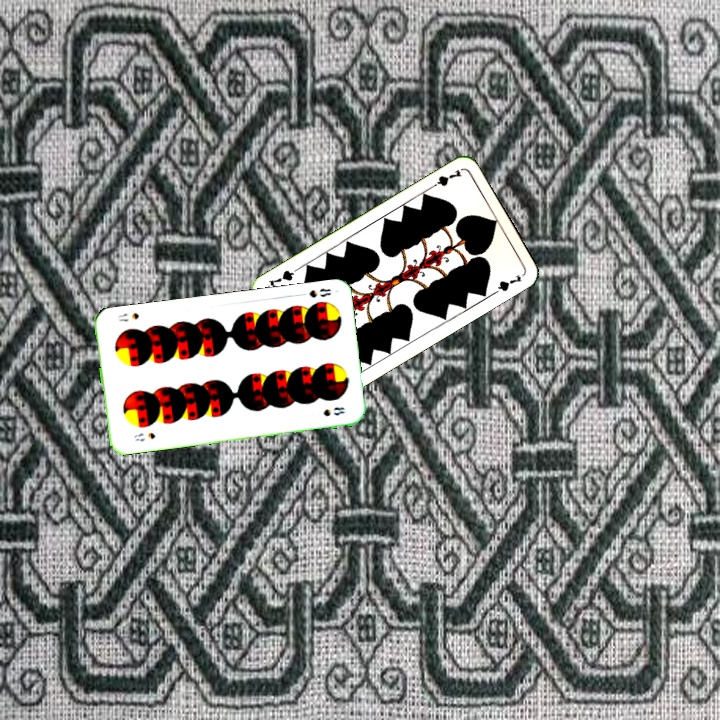G7: (426, 166, 464, 191)
S8: (294, 284, 333, 300), (130, 429, 157, 444)
